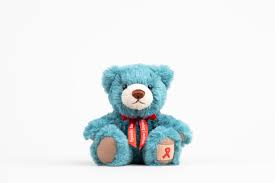teddy: (77, 57, 206, 183)
